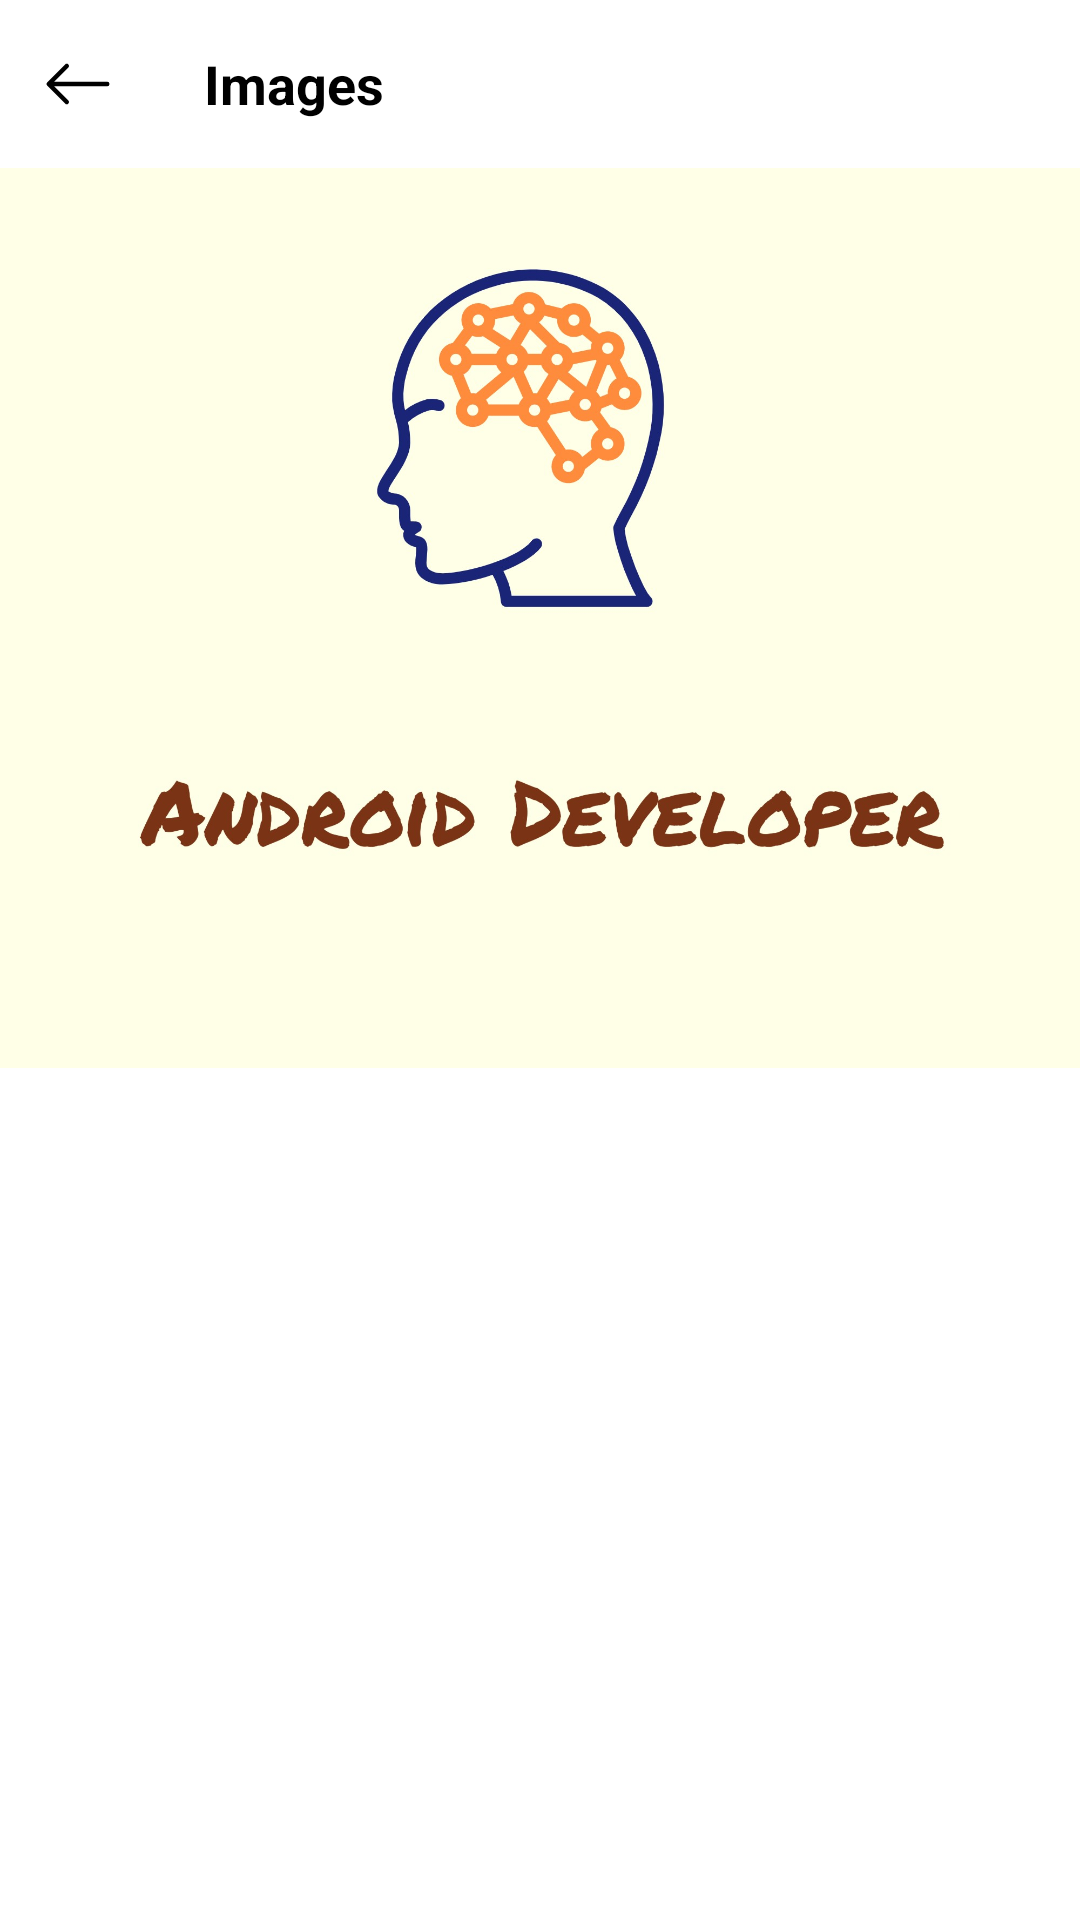

Named icons in this screenshot (1080×1920) and their centers, (x,y):
back: (78,84)
